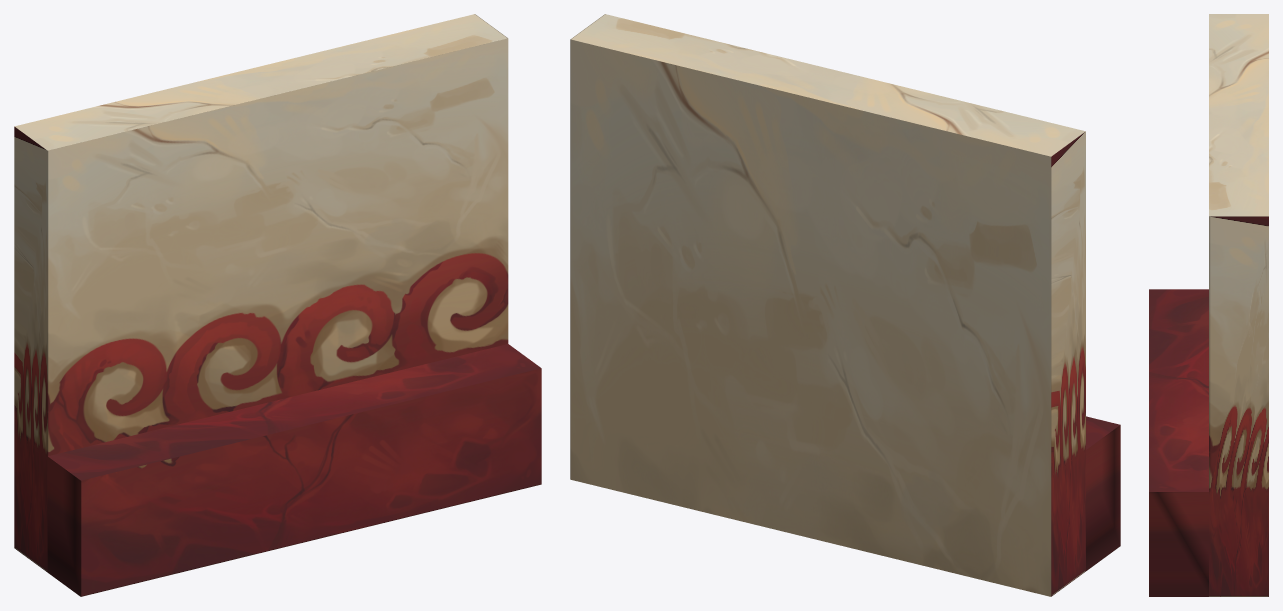
Rendered from mur.fbx.
3 views of the same model, side by side, from view 1: azimuth 30°, elevation 25°; view 2: azimuth 150°, elevation 25°; view 3: azimuth 270°, elevation 25° (orthographic). The views are drawn at different scales.
Visible parts, largest first — view 1: Box002; view 2: Box002; view 3: Box002.
Part boxes in pixels (box(x1,y1,x2,y2)): Box002: box(14, 14, 541, 596); Box002: box(570, 14, 1120, 596); Box002: box(1149, 14, 1268, 596).
Bounding box in the file's own units: 2000 × 1750 × 500.
